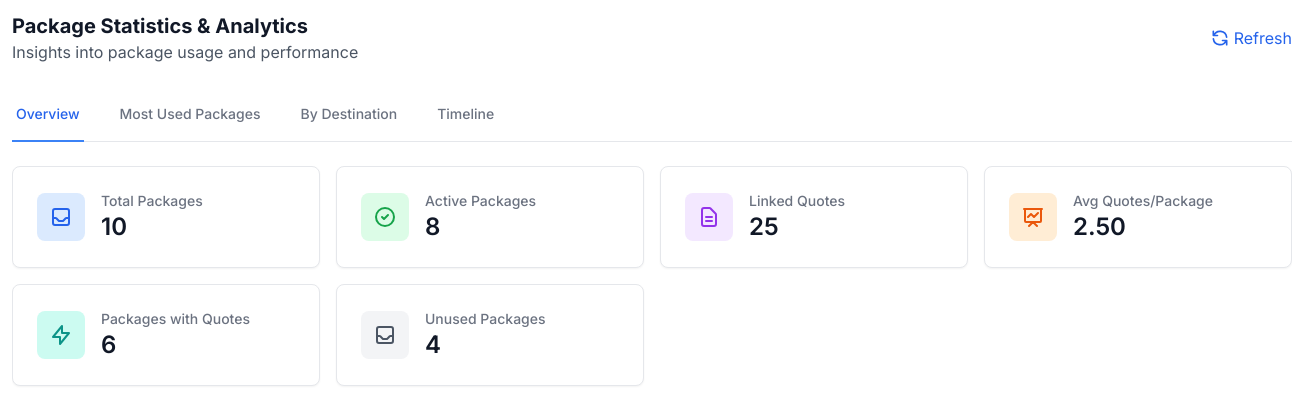
Scenario: SuperPackageStatistics › should handle empty most used packages
The width and height of the screenshot is (1304, 403).
Expected: the heading "Package Statistics & Analytics" is shown, [12,12,358,40]
Switch to usage tab
Click the button "Most Used Packages" at (190,115), box [116,88,264,142]
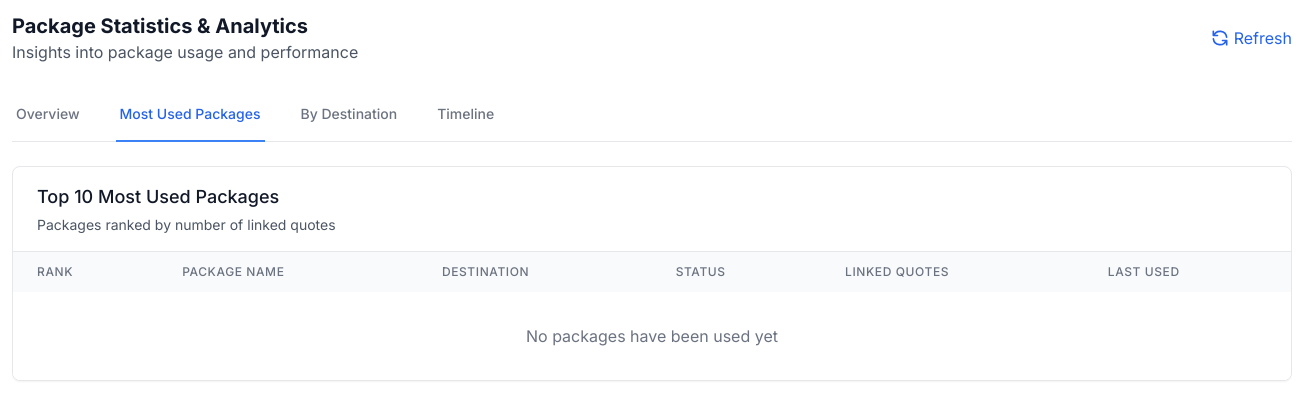
Expected: the text "No packages have been used yet" is shown, [13,292,1291,380]
